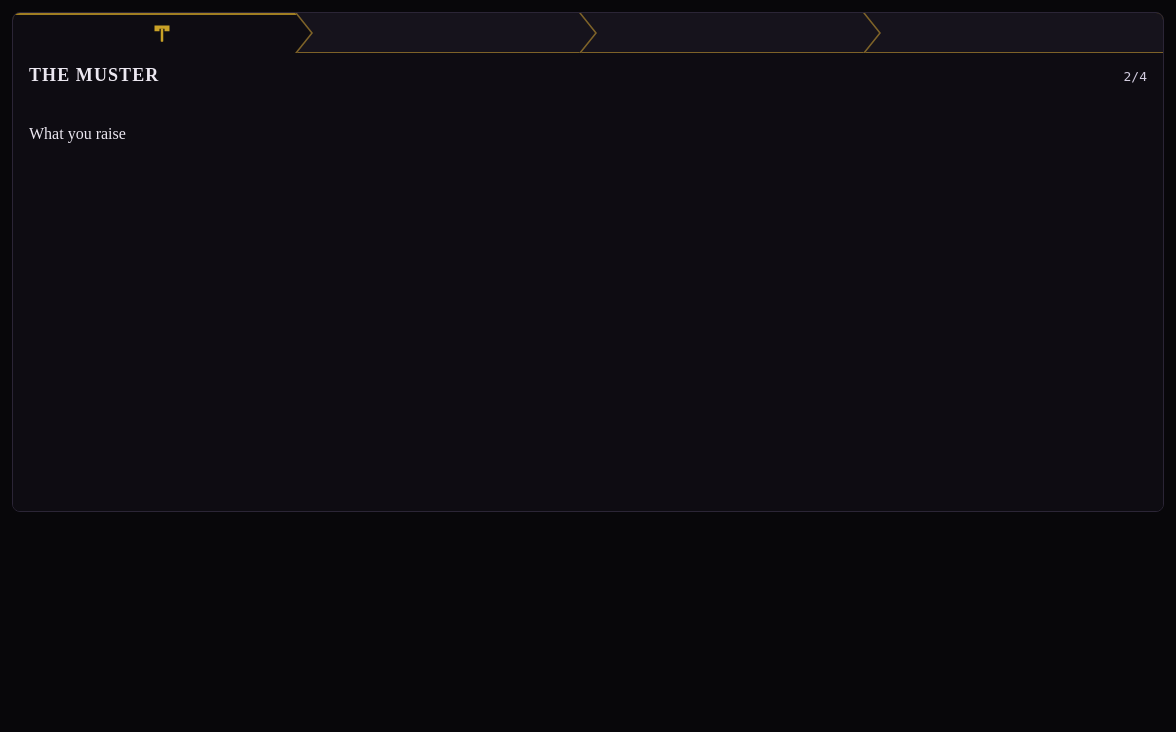
Deck › changes panel when a tab is pressed
This screenshot has width=1176, height=732.
What coordinates should you click on to do the following:
click the 3rd tab named "Deeds"
I would click on:
 (730, 33)
Its box is [581,13,879,53].
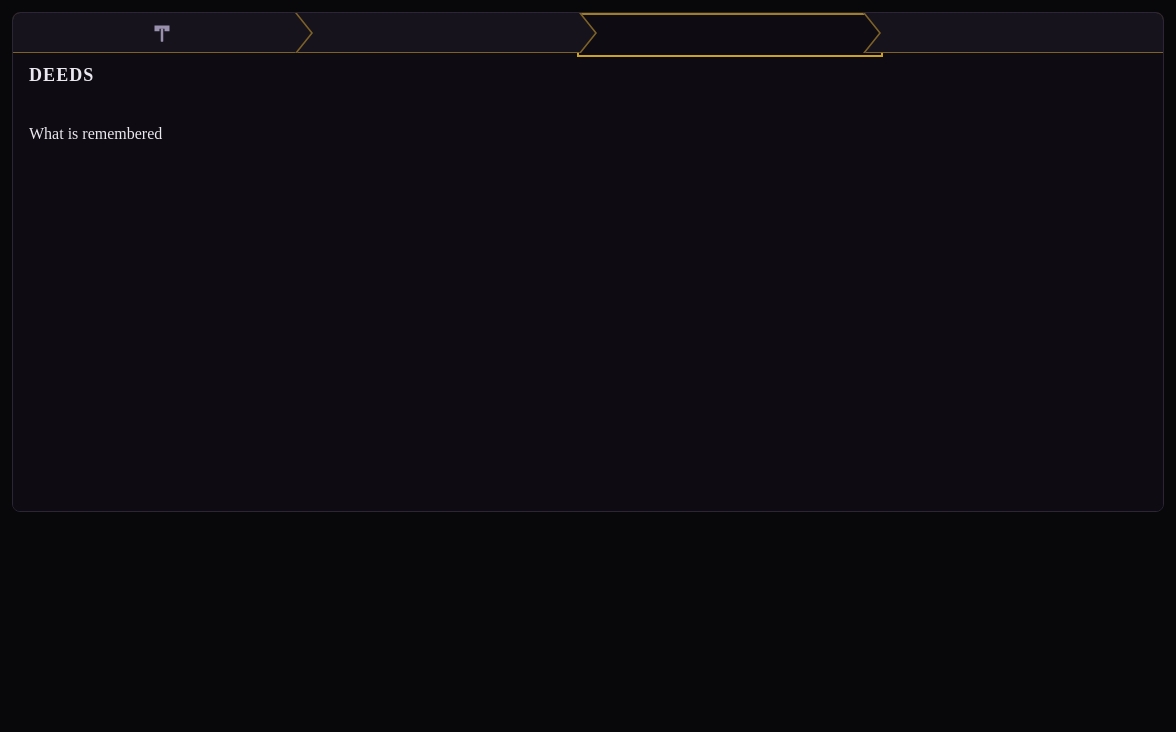
Expected: the panel named "Deeds" is shown, [29,125,162,142]
